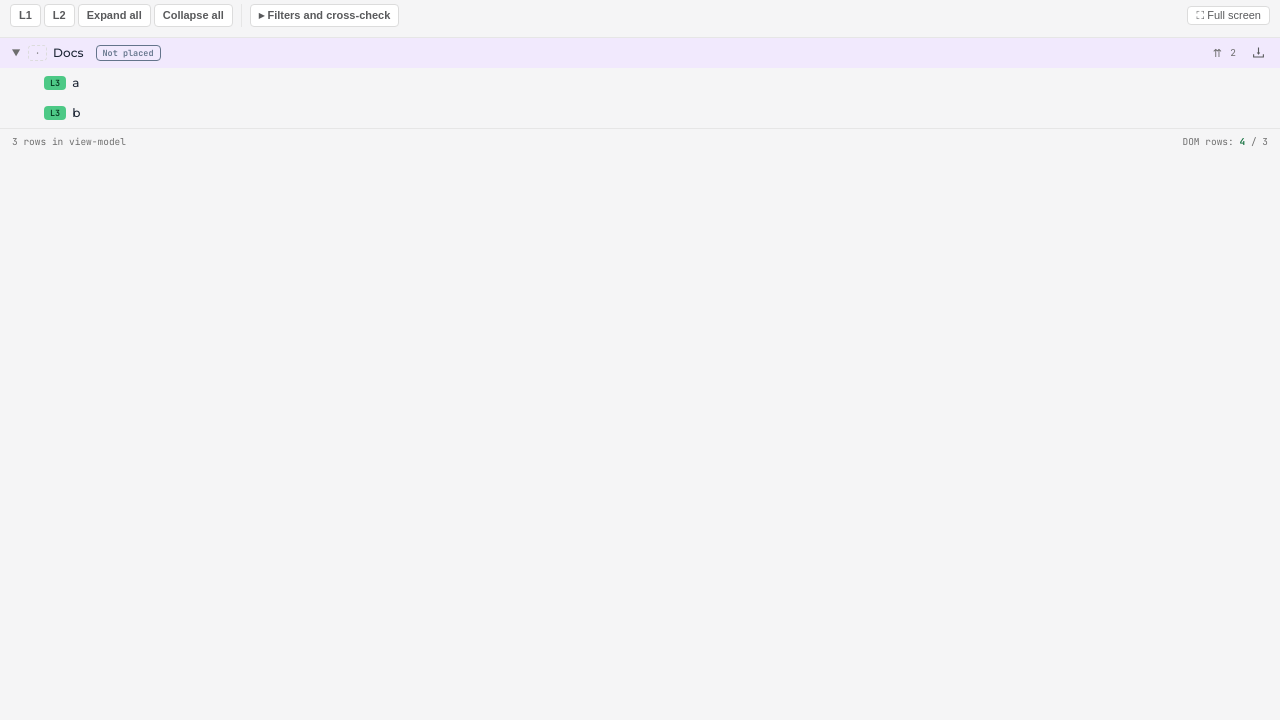
Test case: filters and cross-check fold › shows everything in full screen, with no fold button there
The image size is (1280, 720).
Click the button "⛶ Full screen" at (1229, 15), box [1187,6,1270,25]
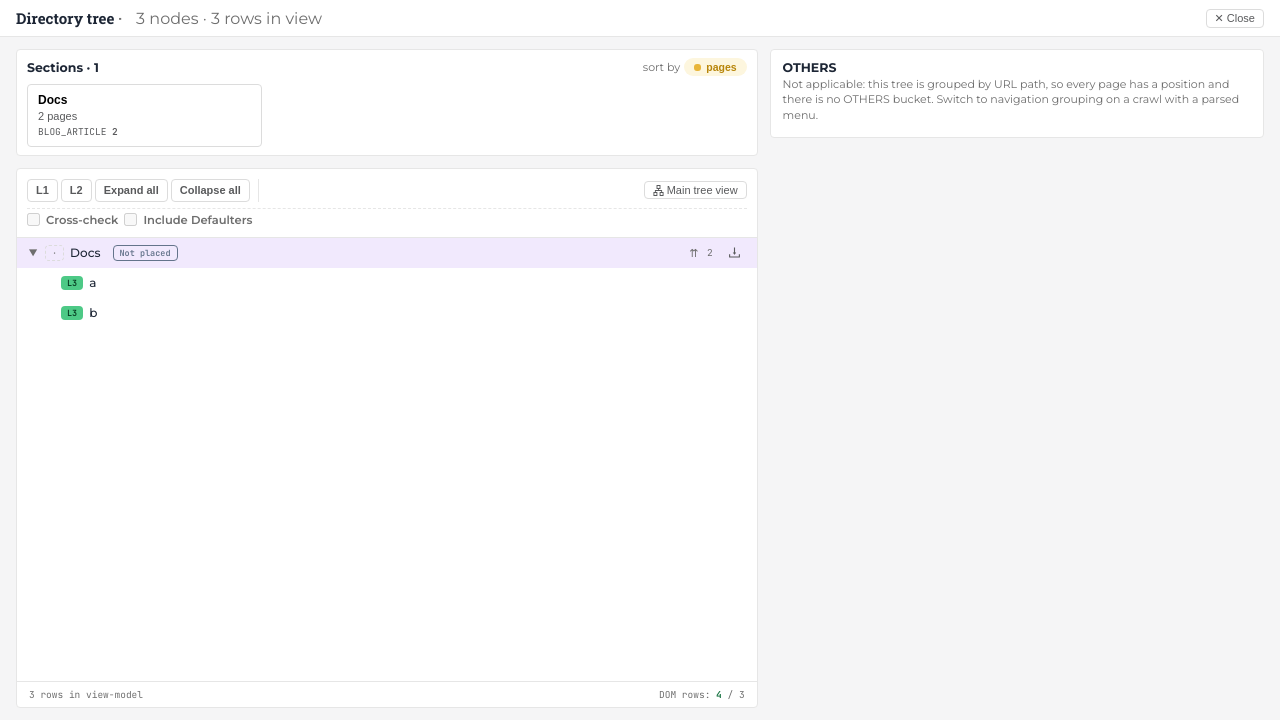
Now the checkbox labelled "Cross-check" is shown, box [27,213,40,226]
